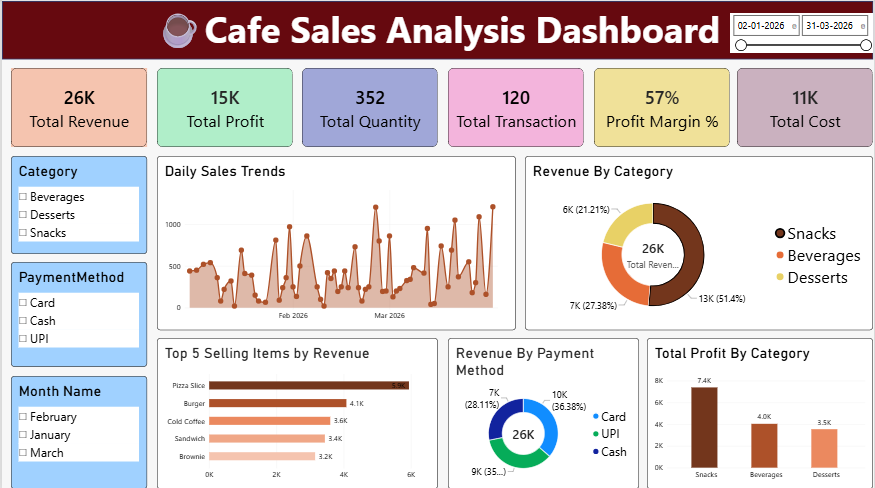

The page's visual inventory and layout, read from the dashboard file:
{"tool":"powerbi","page":{"name":"Page 1","canvas":[1920,1080],"ordinal":0},"visuals":[{"type":"shape","box":[0,5,1920,128.5],"z":0},{"type":"textbox","box":[0,10.1,1920,118.4],"z":1000},{"type":"cardVisual","fields":{"Data":["Data.Total Profit"]},"box":[341.6,152.1,299.8,174.1],"z":2000},{"type":"cardVisual","fields":{"Data":["Data.Total Quantity"]},"box":[661.2,152.1,299.8,174.1],"z":3000},{"type":"cardVisual","fields":{"Data":["Data.Total Transactions"]},"box":[983,152.1,299.8,174.1],"z":4000},{"type":"cardVisual","fields":{"Data":["Data.Profit Margin %"]},"box":[1304.8,152.1,299.8,174.1],"z":5000},{"type":"cardVisual","fields":{"Data":["Data.Total Cost"]},"box":[1620,152.1,299.8,174.1],"z":6000},{"type":"cardVisual","fields":{"Data":["Data.Total Revenue"]},"box":[19.8,152.1,299.8,174.1],"z":7000},{"type":"listSlicer","fields":{"Values":["Data.Category"]},"box":[19.8,346,299.8,216],"z":8000},{"type":"listSlicer","fields":{"Values":["Data.PaymentMethod"]},"box":[19.8,579.7,299.8,231.4],"z":9000},{"type":"listSlicer","fields":{"Values":["Data.Month Name"]},"box":[19.8,830.9,299.8,249.1],"z":10000},{"type":"lineChart","title":"Daily Sales Trends","fields":{"Category":["Data.SaleDate.Variation.Date Hierarchy.Year","Data.SaleDate.Variation.Date Hierarchy.Month","Data.SaleDate.Variation.Date Hierarchy.Day"],"Y":["Data.Total Revenue"]},"box":[341.6,346,791.3,383.5],"z":11000},{"type":"donutChart","title":"Revenue By Category","fields":{"Category":["Data.Category"],"Y":["Data.Total Revenue"]},"box":[1152.7,346,767,383.5],"z":12000},{"type":"clusteredBarChart","title":"Top 5 Selling Items by Revenue","fields":{"Category":["Data.Item"],"Y":["Data.Total Revenue"]},"box":[341.6,747.2,619.3,332.8],"z":13000},{"type":"donutChart","title":"Revenue By Payment Method","fields":{"Category":["Data.PaymentMethod"],"Y":["Data.Total Revenue"]},"box":[983,747.2,421,332.8],"z":14000},{"type":"clusteredColumnChart","title":"Total Profit By Category","fields":{"Category":["Data.Category"],"Y":["Data.Total Profit"]},"box":[1421.6,747.2,498.1,332.8],"z":15000},{"type":"slicer","fields":{"Values":["Data.SaleDate"]},"box":[1604.6,30.9,315.2,88.2],"z":15001}]}

Visuals, with their boxes in screenshot pixels (x1, y1, x2, y2), scaled from the page's 1920x1080 canvas onto the 875x488 screenshot:
shape: box=[0, 2, 874, 60]
textbox: box=[0, 5, 874, 58]
cardVisual - Data.Total Profit: box=[156, 69, 292, 147]
cardVisual - Data.Total Quantity: box=[301, 69, 438, 147]
cardVisual - Data.Total Transactions: box=[448, 69, 585, 147]
cardVisual - Data.Profit Margin %: box=[595, 69, 731, 147]
cardVisual - Data.Total Cost: box=[738, 69, 874, 147]
cardVisual - Data.Total Revenue: box=[9, 69, 146, 147]
listSlicer - Data.Category: box=[9, 156, 146, 254]
listSlicer - Data.PaymentMethod: box=[9, 262, 146, 366]
listSlicer - Data.Month Name: box=[9, 375, 146, 487]
"Daily Sales Trends" lineChart: box=[156, 156, 516, 330]
"Revenue By Category" donutChart: box=[525, 156, 874, 330]
"Top 5 Selling Items by Revenue" clusteredBarChart: box=[156, 338, 438, 487]
"Revenue By Payment Method" donutChart: box=[448, 338, 640, 487]
"Total Profit By Category" clusteredColumnChart: box=[648, 338, 874, 487]
slicer - Data.SaleDate: box=[731, 14, 874, 54]
